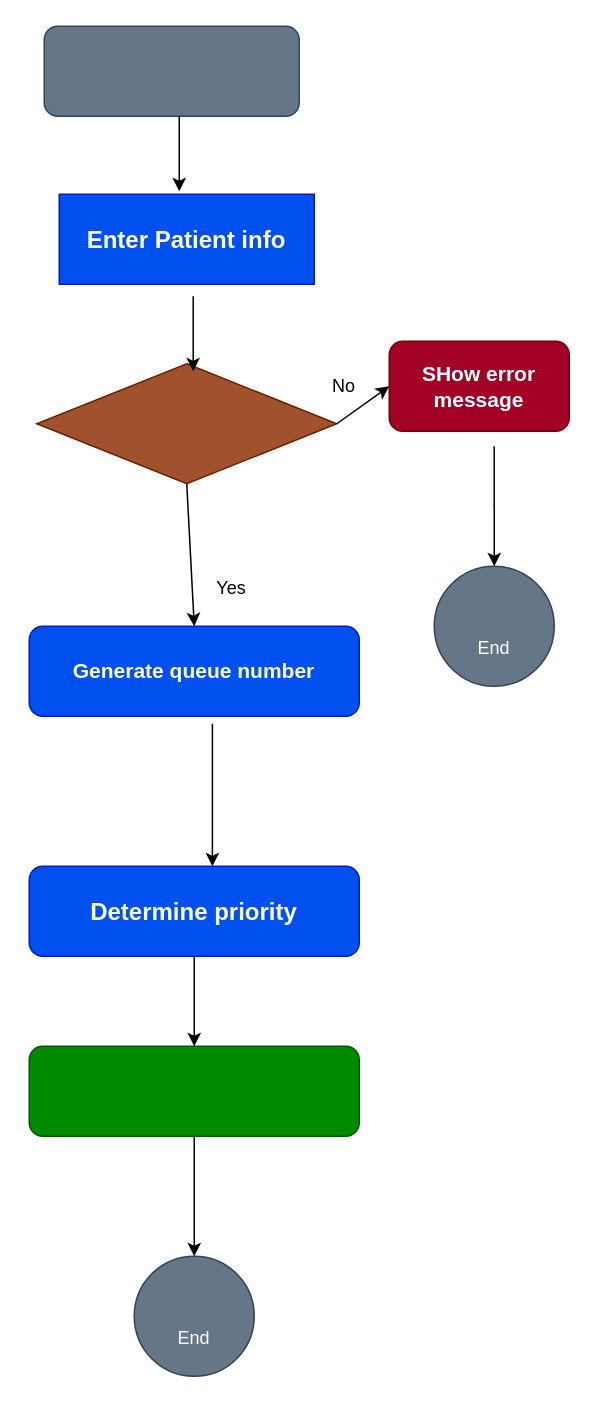
Image size: 596x1403. Some labels were removed from this diagram. The centre of each missing label's shape, as x and y in pixels:
"display output" belongs at (193,1090).
"Inputs Valid?" belongs at (186,423).
"Star" belongs at (171,70).
